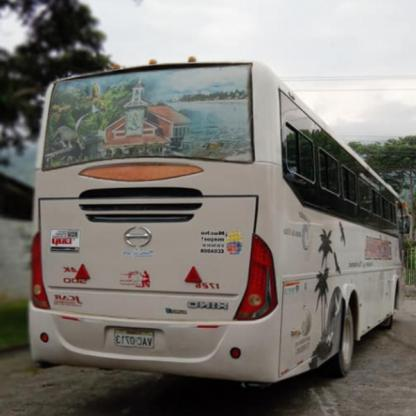Placa: (109, 326, 157, 351)
